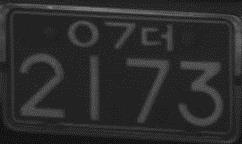0: (66, 19, 99, 47)
1: (74, 54, 114, 121)
2: (18, 52, 66, 118)
3: (178, 59, 224, 128)
7: (125, 56, 170, 123), (104, 20, 137, 48)
더: (140, 22, 173, 51)
